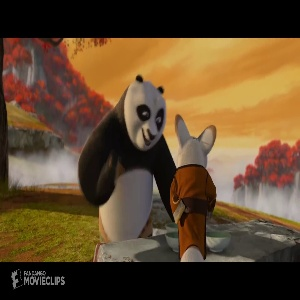po: (75, 70, 172, 239)
shifu: (169, 114, 217, 260)
